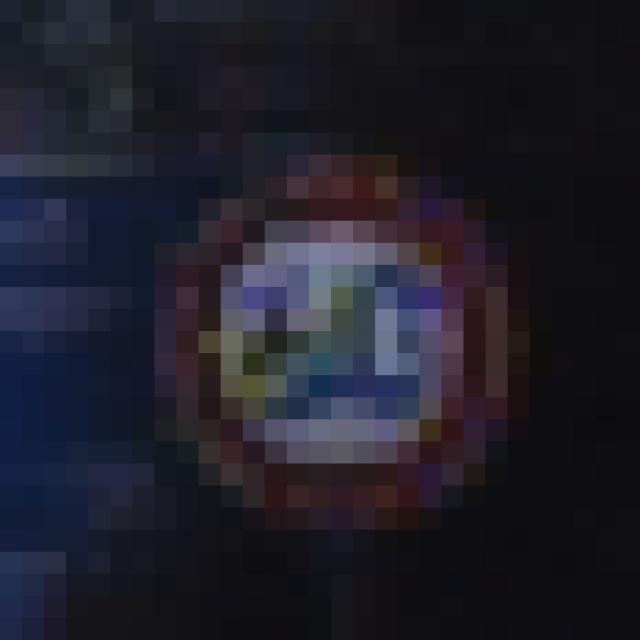Ograniczenie predkosci do 60: (85, 89, 610, 592)
